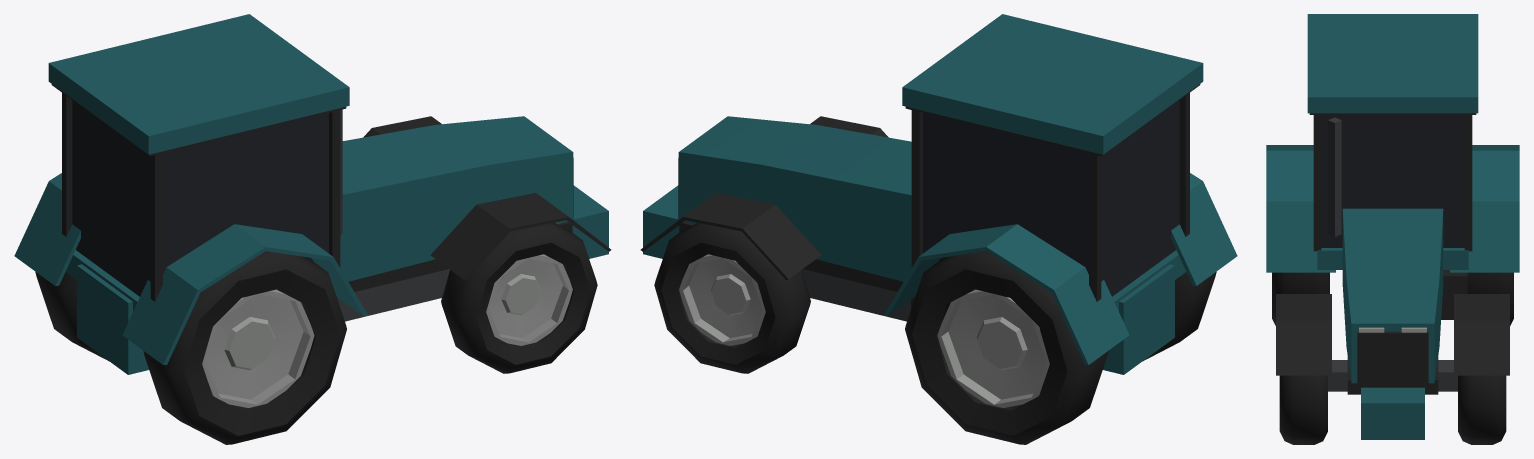
File: SM_Prop_farm_tractor_0_LOD2.glb
3 views of the same model, side by side, from view 1: azimuth 30°, elevation 25°; view 2: azimuth 150°, elevation 25°; view 3: azimuth 270°, elevation 25° (orthographic). The views are drawn at different scales.
Visible parts, largest first — view 1: SM_Prop_farm_tractor_0_LOD2; view 2: SM_Prop_farm_tractor_0_LOD2; view 3: SM_Prop_farm_tractor_0_LOD2.
Part boxes in pixels (box(x1,y1,x2,y2)): SM_Prop_farm_tractor_0_LOD2: box(14, 14, 611, 444); SM_Prop_farm_tractor_0_LOD2: box(640, 14, 1237, 444); SM_Prop_farm_tractor_0_LOD2: box(1266, 14, 1519, 444).
Bounding box in the file's own units: 5.09 × 3.06 × 2.62.
